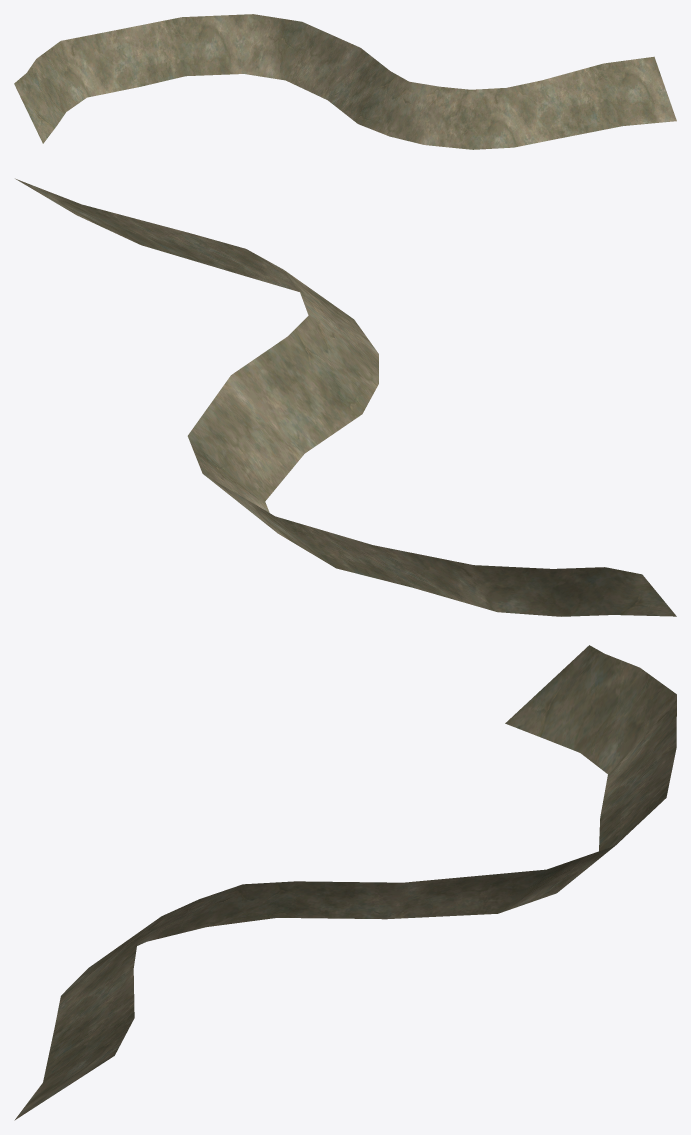
The model's file is OVERHILL_A_01_OBJECT182.fbx.
The picture shows the model from 3 angles, top to bottom: view 1: azimuth 30°, elevation 25°; view 2: azimuth 150°, elevation 25°; view 3: azimuth 270°, elevation 25°; orthographic projection. The views are drawn at different scales.
Parts seen in each view (by area): view 1: OVERHILL_A_01_OBJECT182; view 2: OVERHILL_A_01_OBJECT182; view 3: OVERHILL_A_01_OBJECT182.
Part boxes in pixels (bbox=[...]): OVERHILL_A_01_OBJECT182: bbox=[14, 14, 676, 149]; OVERHILL_A_01_OBJECT182: bbox=[15, 178, 676, 616]; OVERHILL_A_01_OBJECT182: bbox=[14, 645, 676, 1120].
Size of the model in its own units: 261934 by 24922 by 174551.
1 material, 1 textured.
